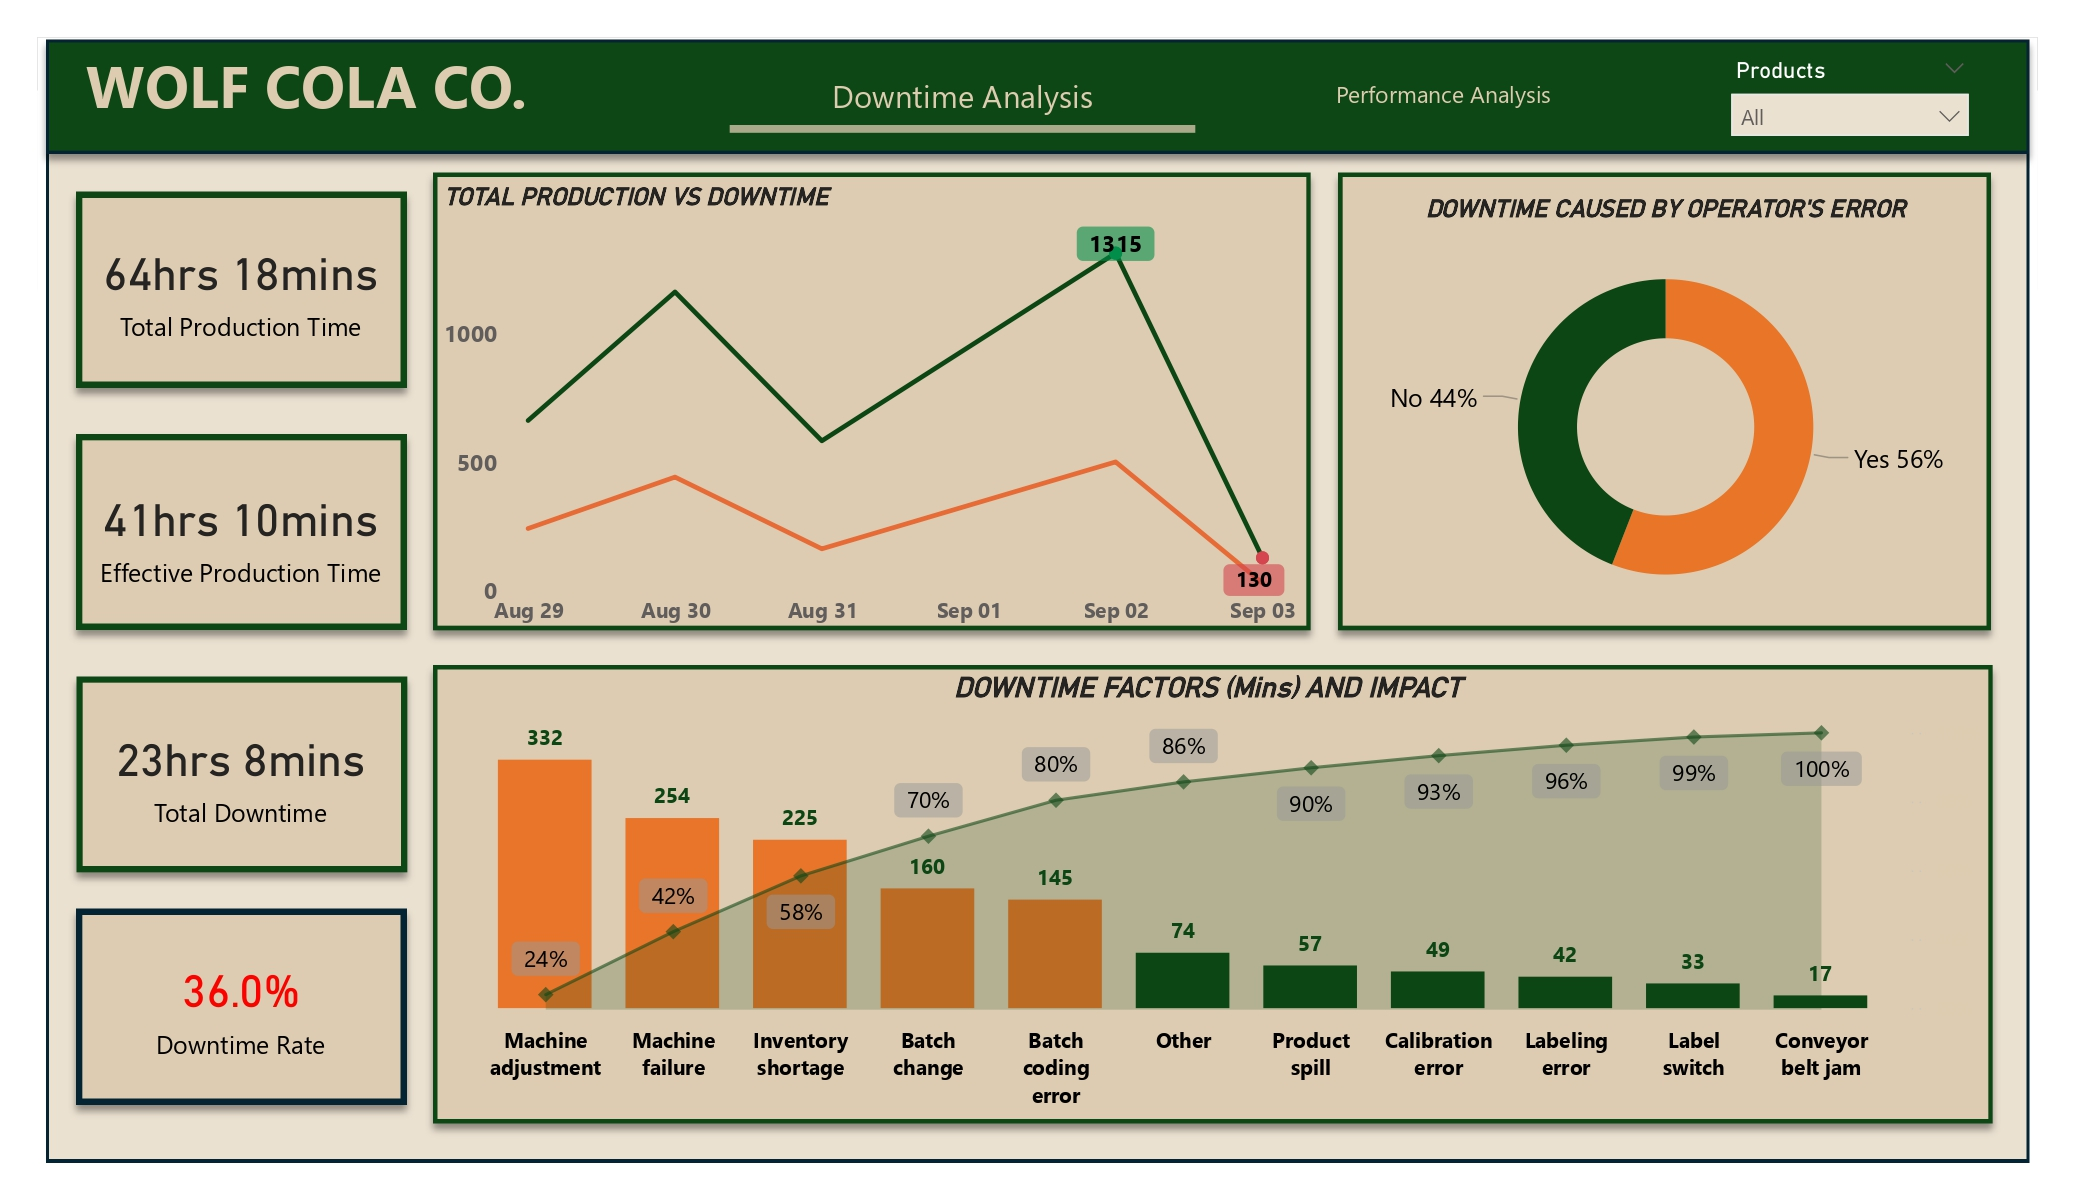

This screenshot's page, from the dashboard's own definition file:
{"tool":"powerbi","page":{"name":"Downtime Analysis","canvas":[1280,720],"ordinal":1},"visuals":[{"type":"card","fields":{"Values":["_Measures.Total Downtime"]},"box":[25.7,405.3,208.8,132.9],"z":0},{"type":"card","fields":{"Values":["_Measures.Downtime Rate"]},"box":[25.7,557.2,208.8,125.1],"z":1000},{"type":"card","fields":{"Values":["_Measures.Effective Production Time"]},"box":[25.7,254.6,208.8,126.2],"z":2000},{"type":"card","fields":{"Values":["_Measures.Total Production Time"]},"box":[25.7,100.5,208.8,120.6],"z":3000},{"type":"slicer","fields":{"Values":["Products.Product"]},"box":[1074.2,7.8,172,67],"z":4000},{"type":"lineClusteredColumnComboChart","title":"DOWNTIME  FACTORS (Mins) AND IMPACT","fields":{"Category":["Downtime factors.Description"],"Y":["_Measures.Total Downtime","select"],"Y2":["select1"]},"box":[243.4,405.3,1011.7,288.1],"z":5000},{"type":"donutChart","title":"DOWNTIME CAUSED BY OPERATOR''S ERROR","fields":{"Y":["_Measures.Downtime Rate"],"Category":["Downtime factors.Operator Error"]},"box":[837.2,100,409.3,280.2],"z":6000},{"type":"textbox","box":[25.6,0,348.8,74.4],"z":7000},{"type":"pageNavigator","box":[443.3,11.2,607.4,50.2],"z":8000},{"type":"lineChart","title":"TOTAL PRODUCTION VS DOWNTIME","fields":{"Category":["Calender.Date"],"Y":["_Measures.Total Production Time Mins","_Measures.Max Production","_Measures.Total Downtime mins","_Measures.Min Production"]},"box":[254.7,91.9,555.8,294.2],"z":9000}]}

Visuals, with their boxes in screenshot pixels (x1, y1, x2, y2):
card - _Measures.Total Downtime: x1=78 y1=671 x2=404 y2=878
card - _Measures.Downtime Rate: x1=78 y1=908 x2=404 y2=1104
card - _Measures.Effective Production Time: x1=78 y1=435 x2=404 y2=632
card - _Measures.Total Production Time: x1=78 y1=195 x2=404 y2=383
slicer - Products.Product: x1=1716 y1=50 x2=1985 y2=154
"DOWNTIME  FACTORS (Mins) AND IMPACT" lineClusteredColumnComboChart: x1=418 y1=671 x2=1999 y2=1121
"DOWNTIME CAUSED BY OPERATOR''S ERROR" donutChart: x1=1346 y1=194 x2=1985 y2=632
textbox: x1=78 y1=38 x2=622 y2=154
pageNavigator: x1=730 y1=55 x2=1679 y2=133
"TOTAL PRODUCTION VS DOWNTIME" lineChart: x1=435 y1=181 x2=1304 y2=641
